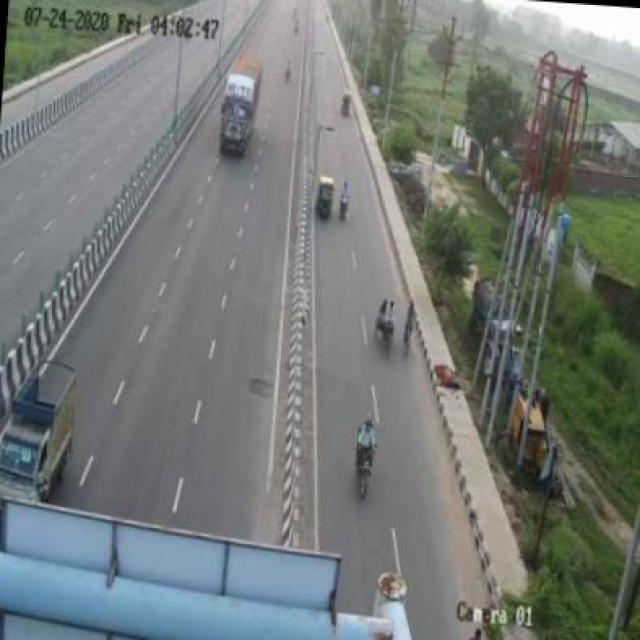car: (1, 356, 84, 531)
